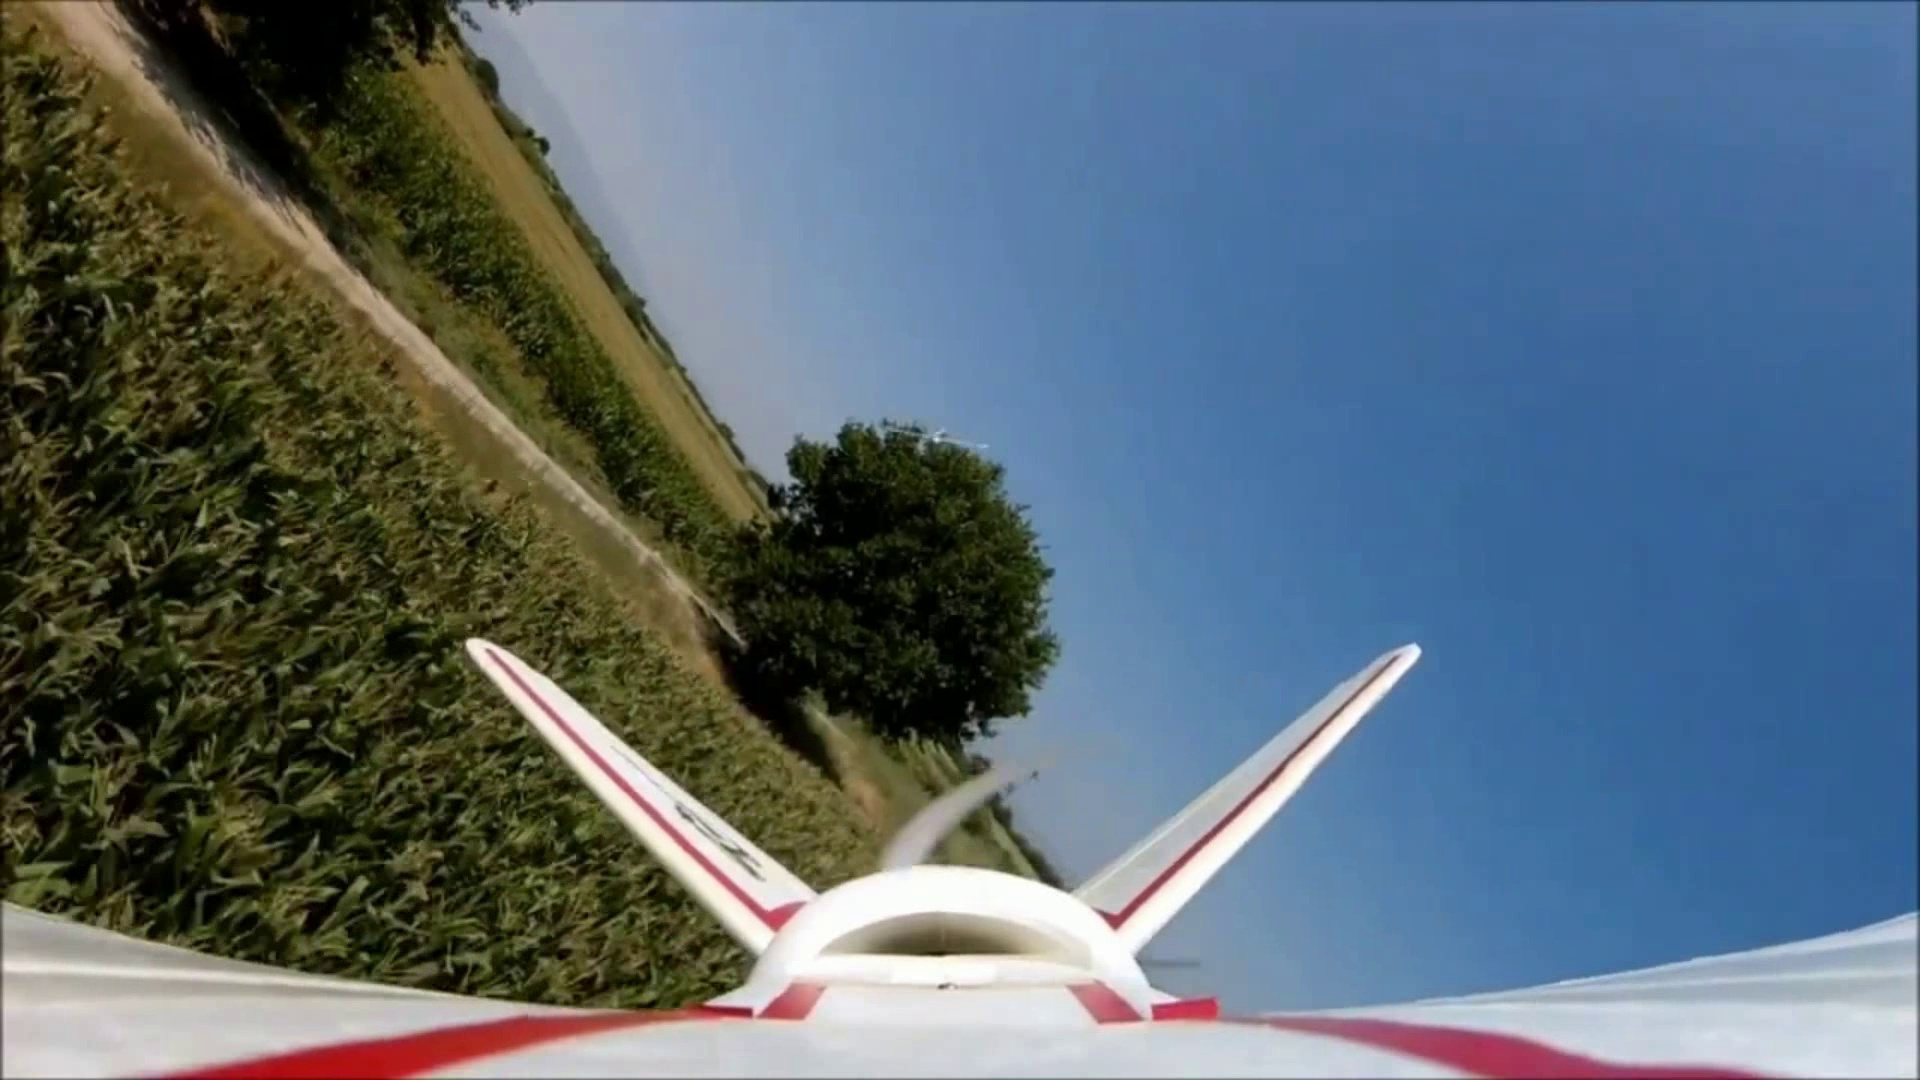airplane: (9, 634, 1905, 1063)
